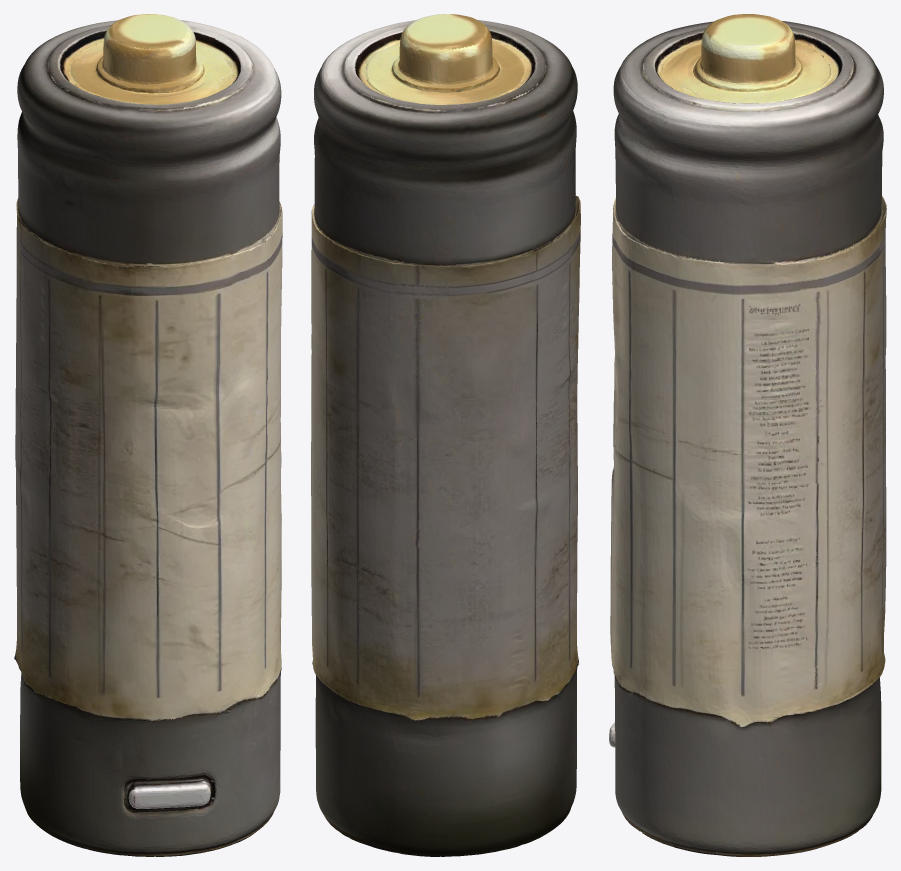
File: Baterai.glb
The picture shows the model from 3 angles, left to right: view 1: azimuth 30°, elevation 25°; view 2: azimuth 150°, elevation 25°; view 3: azimuth 270°, elevation 25°; orthographic projection.
Parts seen in each view (by area): view 1: geometry_0; view 2: geometry_0; view 3: geometry_0.
Part boxes in pixels (x1,y1,x2,y2): geometry_0: (14,14,282,856); geometry_0: (311,14,580,856); geometry_0: (609,14,886,856).
Bounding box in the file's own units: 0.6197 × 2 × 0.6485.
Materials: 1 (1 with a texture image).
